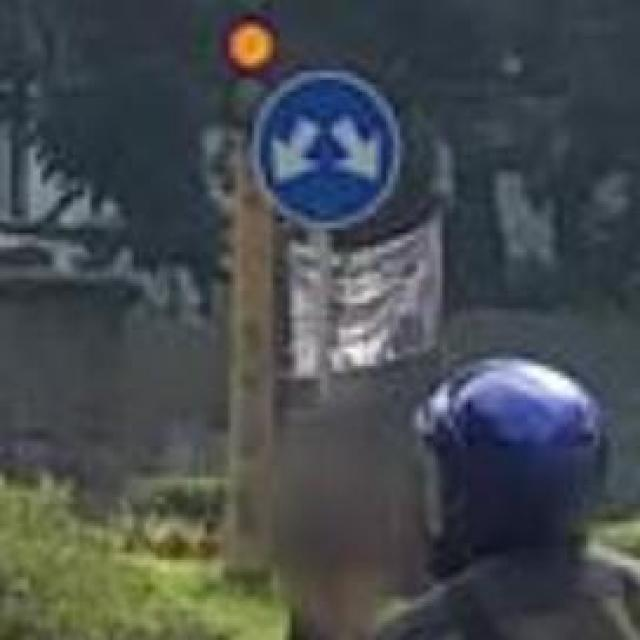traffic sign: (254, 68, 404, 230)
